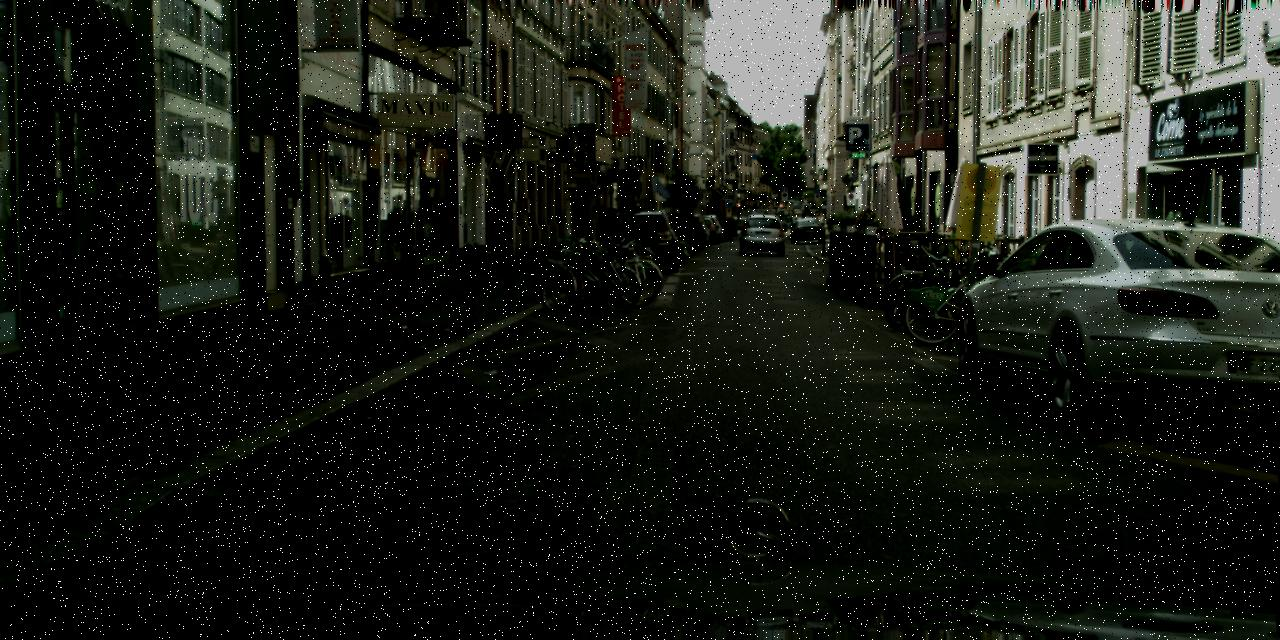ped: (760, 211, 769, 234), (751, 207, 757, 224), (768, 197, 773, 209)
